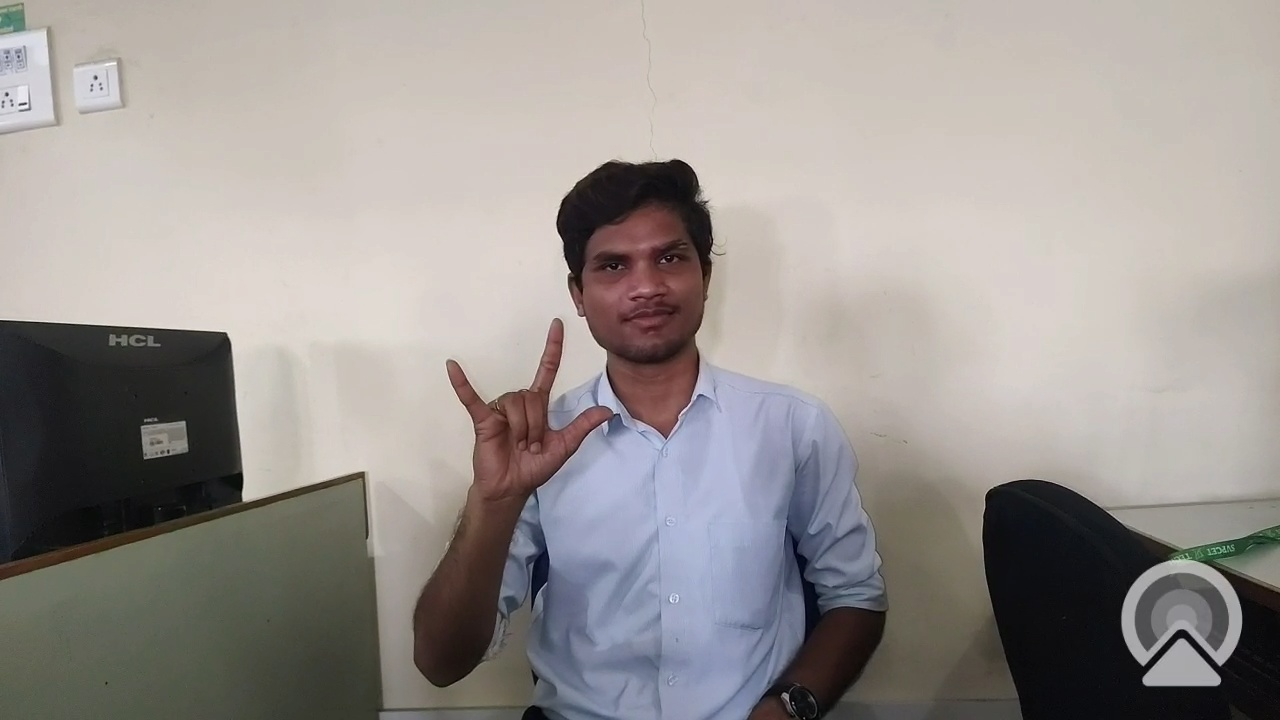I love you: (429, 309, 635, 506)
